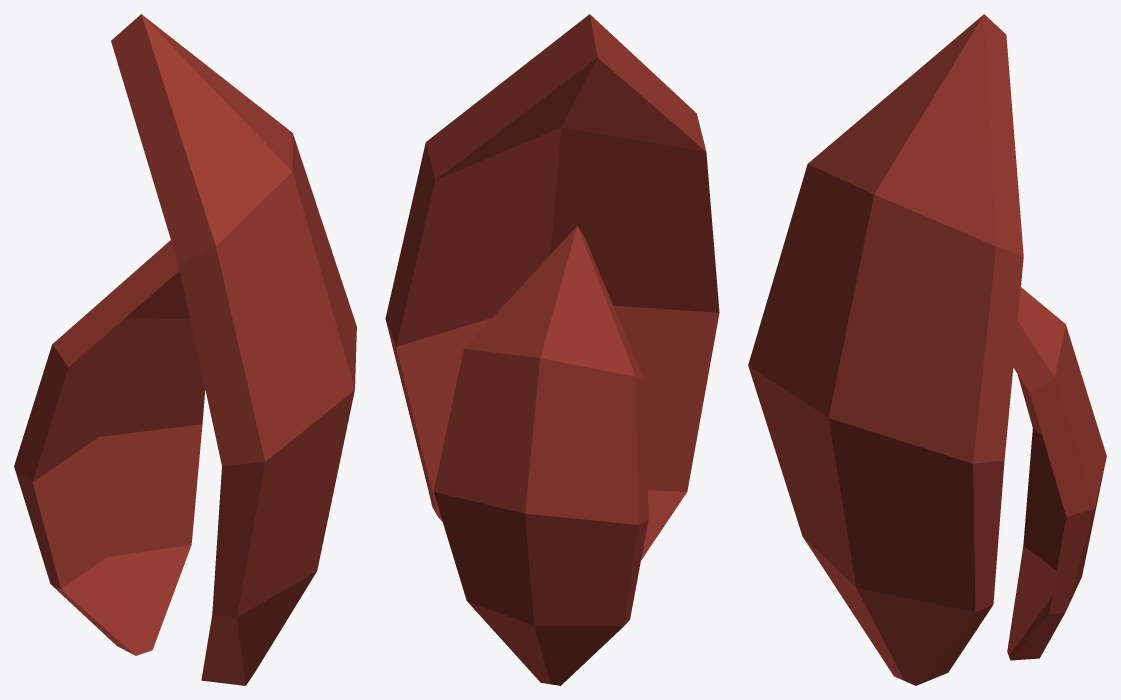
The model's file is Grass_8_Red.fbx.
3 views of the same model, side by side, from view 1: azimuth 30°, elevation 25°; view 2: azimuth 150°, elevation 25°; view 3: azimuth 270°, elevation 25° (orthographic). The views are drawn at different scales.
Parts seen in each view (by area): view 1: Grass_8_Red; view 2: Grass_8_Red; view 3: Grass_8_Red.
Part boxes in pixels (x1,y1,x2,y2): Grass_8_Red: (14, 14, 356, 685); Grass_8_Red: (385, 14, 719, 685); Grass_8_Red: (748, 14, 1106, 685).
Size of the model in its own units: 22.62 by 47.35 by 24.25.
